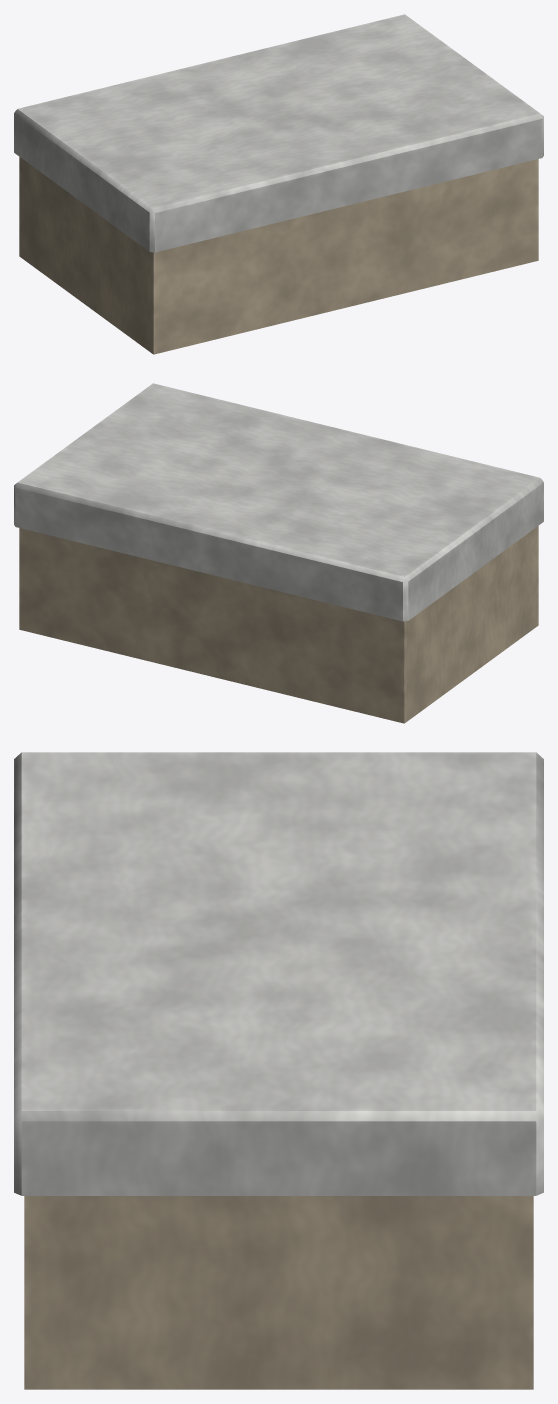
The picture shows the model from 3 angles, top to bottom: view 1: azimuth 30°, elevation 25°; view 2: azimuth 150°, elevation 25°; view 3: azimuth 270°, elevation 25°; orthographic projection. The views are drawn at different scales.
Visible parts, largest first — view 1: box; view 2: box; view 3: box.
Boxes of the visible parts, bbox=[...] form: box: bbox=[14, 14, 543, 354]; box: bbox=[14, 383, 543, 723]; box: bbox=[14, 752, 543, 1389].
Bounding box in the file's own units: 0.336 × 0.12 × 0.206.
1 material, 1 textured.
